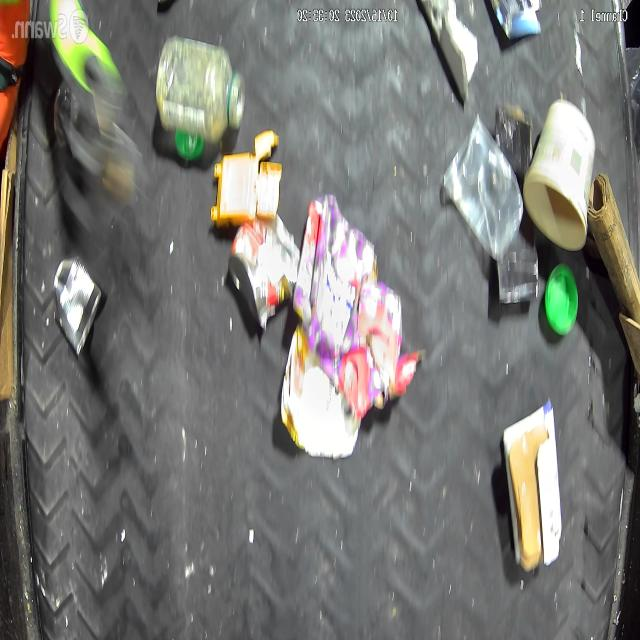can: (228, 216, 300, 329), (51, 256, 100, 355)
